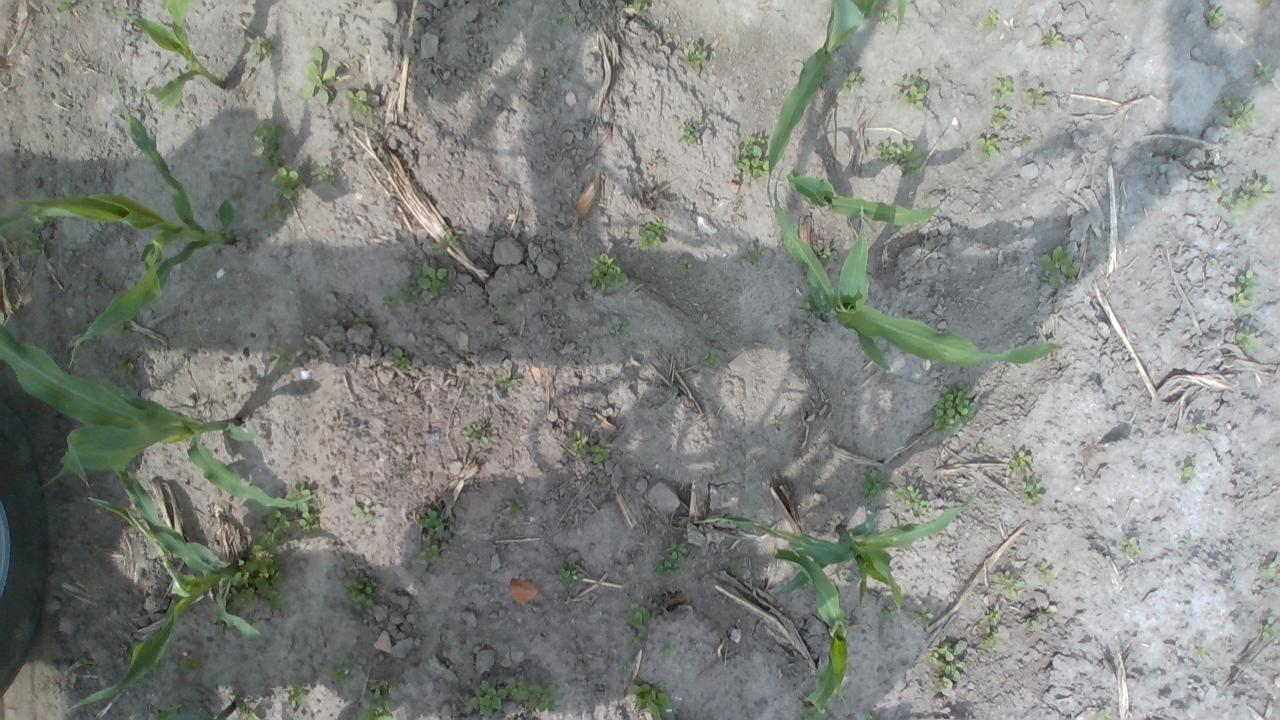Maize: (0, 66, 234, 378), (0, 309, 316, 508), (764, 166, 1060, 378), (68, 457, 264, 709), (689, 472, 985, 615), (766, 0, 910, 166), (113, 0, 226, 116), (774, 545, 848, 720), (784, 169, 944, 229), (152, 700, 238, 720)
Weeds: (222, 504, 294, 612), (470, 674, 560, 718), (930, 381, 979, 439), (399, 262, 448, 313), (1221, 176, 1275, 222), (284, 481, 324, 538), (300, 44, 336, 106), (628, 674, 676, 720), (928, 640, 966, 693), (729, 131, 770, 180), (251, 116, 287, 170), (1038, 246, 1082, 290), (876, 138, 922, 178), (584, 253, 628, 293), (359, 676, 398, 720), (890, 70, 929, 112), (649, 540, 688, 580), (8, 224, 46, 264), (1223, 95, 1261, 134), (1232, 270, 1262, 316), (268, 164, 304, 201), (342, 576, 377, 614), (242, 32, 280, 65), (893, 484, 929, 516), (638, 217, 671, 251), (416, 507, 451, 538), (992, 569, 1026, 600), (860, 468, 890, 501), (429, 228, 464, 254), (308, 156, 338, 186), (624, 598, 651, 631), (558, 560, 586, 589), (324, 658, 354, 684), (114, 353, 138, 385), (681, 42, 708, 70), (343, 88, 372, 114), (798, 292, 824, 320), (150, 699, 188, 718), (993, 68, 1014, 102), (565, 428, 588, 459), (1021, 476, 1045, 505), (976, 136, 1004, 160), (1024, 84, 1052, 108), (269, 345, 294, 370), (1008, 450, 1034, 474), (676, 118, 700, 144), (178, 655, 205, 678), (589, 437, 612, 464), (1232, 331, 1258, 354), (418, 537, 440, 564), (741, 243, 764, 268), (390, 348, 412, 374), (288, 680, 308, 708), (839, 70, 862, 94), (977, 626, 1000, 650), (1206, 6, 1228, 30), (1120, 536, 1142, 560), (382, 284, 401, 310), (981, 9, 1000, 35), (267, 200, 290, 221), (468, 420, 488, 444), (212, 611, 228, 640), (991, 106, 1012, 128), (1041, 24, 1062, 46), (916, 605, 934, 630), (1180, 459, 1197, 485), (1255, 60, 1275, 82), (1204, 168, 1222, 192), (814, 244, 832, 268), (984, 602, 1002, 626), (609, 320, 630, 340), (874, 5, 896, 24), (878, 599, 897, 621), (1183, 421, 1210, 436), (701, 347, 721, 367), (495, 372, 518, 389), (351, 505, 374, 522), (835, 565, 855, 584), (497, 294, 512, 318), (727, 554, 745, 574), (676, 258, 696, 276), (1262, 616, 1278, 638), (1038, 562, 1054, 583), (237, 707, 262, 720), (354, 314, 374, 330), (114, 320, 134, 336), (354, 38, 370, 56), (1260, 564, 1278, 580), (56, 0, 76, 13), (552, 12, 570, 26), (633, 0, 651, 14), (510, 497, 524, 515), (660, 639, 674, 657), (1022, 618, 1040, 632), (1194, 646, 1212, 660), (769, 416, 784, 432), (535, 68, 549, 84), (89, 268, 103, 283), (798, 700, 812, 715), (712, 468, 727, 480), (1096, 709, 1112, 720), (632, 632, 645, 644), (594, 480, 606, 492), (1256, 0, 1274, 8), (618, 664, 629, 676), (648, 152, 658, 164), (866, 712, 880, 720), (402, 459, 411, 470), (134, 90, 146, 98), (961, 145, 970, 154), (975, 444, 985, 452), (1020, 138, 1030, 146), (1040, 610, 1052, 616)
